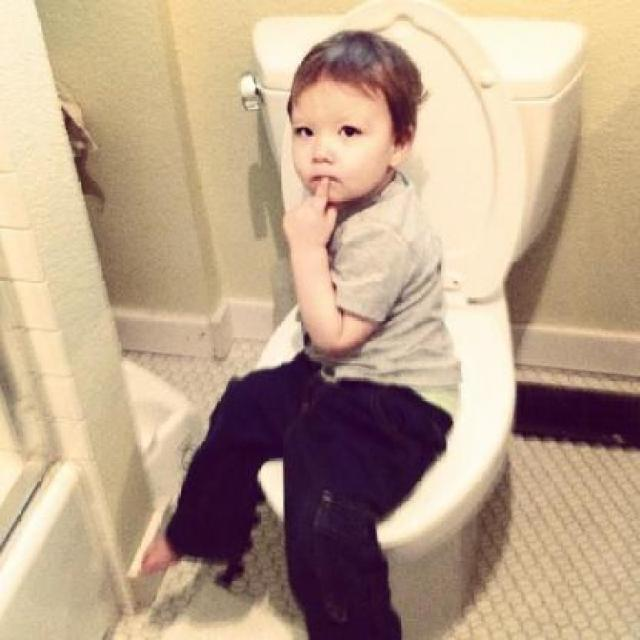Person: (138, 26, 460, 629)
